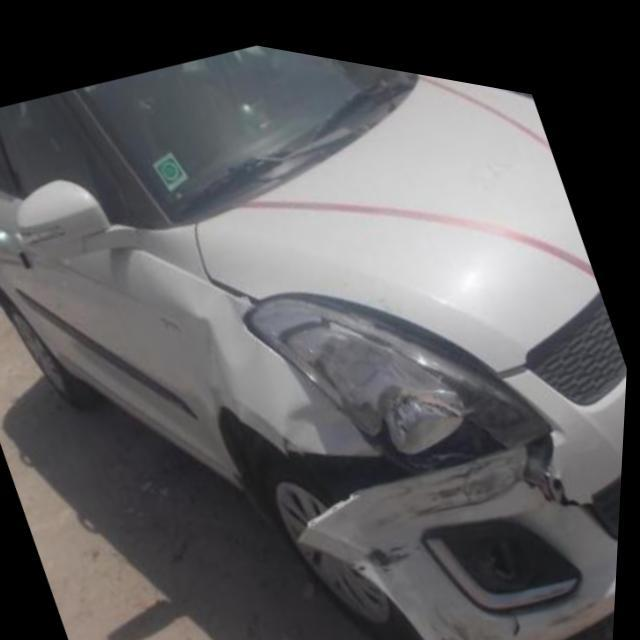crack: (525, 408, 598, 490), (361, 528, 417, 559)
dent: (289, 385, 381, 444)
dislocated part: (292, 404, 511, 522)
rub: (380, 424, 528, 504)
scratch: (440, 577, 483, 640)
